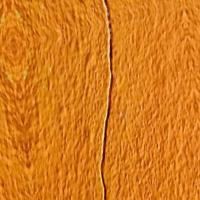crack: (78, 0, 145, 199)
